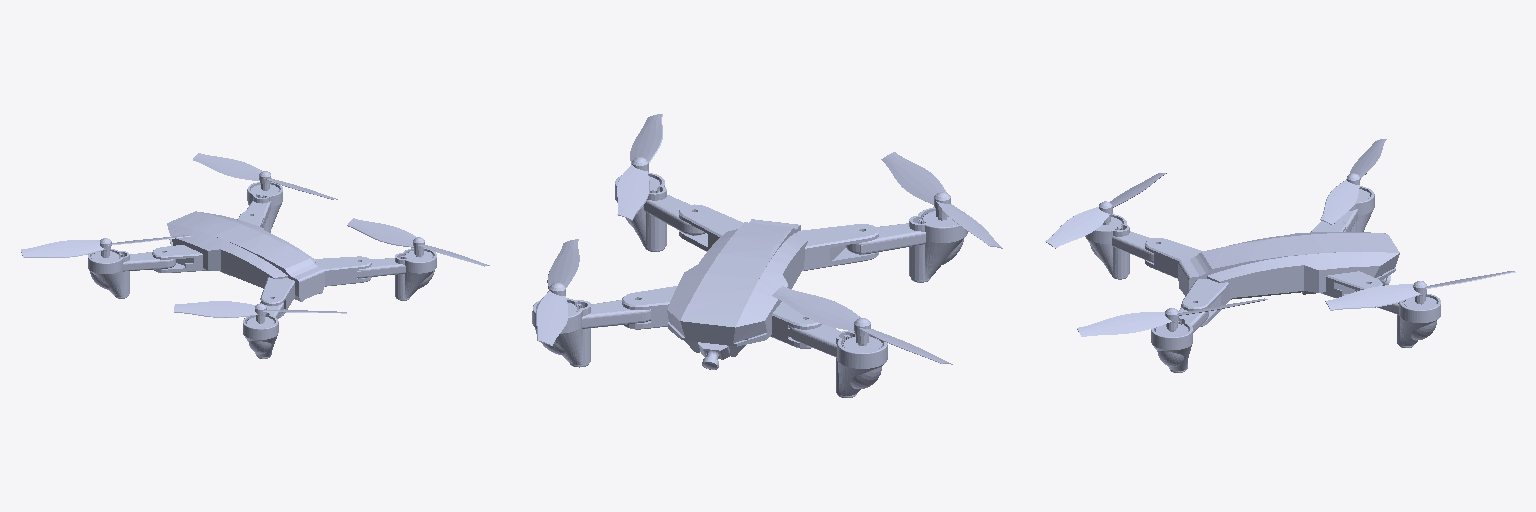
URDF robot description (Drone):
<?xml version="1.0" encoding="utf-8"?>
<!-- This URDF was automatically created by SolidWorks to URDF Exporter! Originally created by [author] ([email redacted]) 
     Commit Version: 1.6.0-1-g15f4949  Build Version: 1.6.7594.29634
     For more information, please see http://wiki.ros.org/sw_urdf_exporter -->
<robot
  name="Drone">
  <link
    name="base_link">
    <inertial>
      <origin
        xyz="0.109398871393486 0.131657507535457 0.112663263182331"
        rpy="0 0 0" />
      <mass
        value="0.126804991176584" />
      <inertia
        ixx="9.97652233502533E-05"
        ixy="1.66898922524471E-07"
        ixz="-1.17703083502394E-05"
        iyy="0.000143209177105433"
        iyz="6.35072021476405E-07"
        izz="5.80634418378302E-05" />
    </inertial>
    <visual>
      <origin
        xyz="0 0 0"
        rpy="0 0 0" />
      <geometry>
        <mesh
          filename="package://Drone/meshes/base_link.STL" />
      </geometry>
      <material
        name="">
        <color
          rgba="0.792156862745098 0.819607843137255 0.933333333333333 1" />
      </material>
    </visual>
    <collision>
      <origin
        xyz="0 0 0"
        rpy="0 0 0" />
      <geometry>
        <mesh
          filename="package://Drone/meshes/base_link.STL" />
      </geometry>
    </collision>
  </link>
  <link
    name="wing_link4">
    <inertial>
      <origin
        xyz="-1.1624E-06 0.023457 -1.5106E-06"
        rpy="0 0 0" />
      <mass
        value="0.0037436" />
      <inertia
        ixx="2.6167E-07"
        ixy="5.3919E-11"
        ixz="-4.2389E-07"
        iyy="1.7889E-06"
        iyz="2.712E-11"
        izz="1.6769E-06" />
    </inertial>
    <visual>
      <origin
        xyz="0 0 0"
        rpy="0 0 0" />
      <geometry>
        <mesh
          filename="package://Drone/meshes/wing_link4.STL" />
      </geometry>
      <material
        name="">
        <color
          rgba="0.79216 0.81961 0.93333 1" />
      </material>
    </visual>
    <collision>
      <origin
        xyz="0 0 0"
        rpy="0 0 0" />
      <geometry>
        <mesh
          filename="package://Drone/meshes/wing_link4.STL" />
      </geometry>
    </collision>
  </link>
  <joint
    name="joint_4"
    type="continuous">
    <origin
      xyz="0.223657184518553 -0.181780229237707 0.122872305354481"
      rpy="1.5707963267949 0 -0.899168245815085" />
    <parent
      link="base_link" />
    <child
      link="wing_link4" />
    <axis
      xyz="0 1 0" />
  </joint>
  <link
    name="wing_link3">
    <inertial>
      <origin
        xyz="-1.1624E-06 0.023457 -1.5106E-06"
        rpy="0 0 0" />
      <mass
        value="0.0037436" />
      <inertia
        ixx="2.6167E-07"
        ixy="5.3919E-11"
        ixz="-4.2389E-07"
        iyy="1.7889E-06"
        iyz="2.7119E-11"
        izz="1.6769E-06" />
    </inertial>
    <visual>
      <origin
        xyz="0 0 0"
        rpy="0 0 0" />
      <geometry>
        <mesh
          filename="package://Drone/meshes/wing_link3.STL" />
      </geometry>
      <material
        name="">
        <color
          rgba="0.79216 0.81961 0.93333 1" />
      </material>
    </visual>
    <collision>
      <origin
        xyz="0 0 0"
        rpy="0 0 0" />
      <geometry>
        <mesh
          filename="package://Drone/meshes/wing_link3.STL" />
      </geometry>
    </collision>
  </link>
  <joint
    name="joint_3"
    type="continuous">
    <origin
      xyz="0.177909320129391 -0.00477147433496601 0.122872305354481"
      rpy="1.5707963267949 0 2.25778719690263" />
    <parent
      link="base_link" />
    <child
      link="wing_link3" />
    <axis
      xyz="0 1 0" />
  </joint>
  <link
    name="wing_link2">
    <inertial>
      <origin
        xyz="-1.1601E-06 0.023457 -1.5102E-06"
        rpy="0 0 0" />
      <mass
        value="0.0037436" />
      <inertia
        ixx="2.6167E-07"
        ixy="5.3923E-11"
        ixz="-4.2389E-07"
        iyy="1.7889E-06"
        iyz="2.7099E-11"
        izz="1.6769E-06" />
    </inertial>
    <visual>
      <origin
        xyz="0 0 0"
        rpy="0 0 0" />
      <geometry>
        <mesh
          filename="package://Drone/meshes/wing_link2.STL" />
      </geometry>
      <material
        name="">
        <color
          rgba="0.79216 0.81961 0.93333 1" />
      </material>
    </visual>
    <collision>
      <origin
        xyz="0 0 0"
        rpy="0 0 0" />
      <geometry>
        <mesh
          filename="package://Drone/meshes/wing_link2.STL" />
      </geometry>
    </collision>
  </link>
  <joint
    name="joint_2"
    type="continuous">
    <origin
      xyz="-0.00331946555943933 -0.0524229667081412 0.122872305354481"
      rpy="1.5707963267949 0 0" />
    <parent
      link="base_link" />
    <child
      link="wing_link2" />
    <axis
      xyz="0 1 0" />
  </joint>
  <link
    name="wing_link1">
    <inertial>
      <origin
        xyz="-1.1606E-06 0.023457 -1.5103E-06"
        rpy="0 0 0" />
      <mass
        value="0.0037436" />
      <inertia
        ixx="2.6167E-07"
        ixy="5.3921E-11"
        ixz="-4.2389E-07"
        iyy="1.7889E-06"
        iyz="2.7105E-11"
        izz="1.6769E-06" />
    </inertial>
    <visual>
      <origin
        xyz="0 0 0"
        rpy="0 0 0" />
      <geometry>
        <mesh
          filename="package://Drone/meshes/wing_link1.STL" />
      </geometry>
      <material
        name="">
        <color
          rgba="0.79216 0.81961 0.93333 1" />
      </material>
    </visual>
    <collision>
      <origin
        xyz="0 0 0"
        rpy="0 0 0" />
      <geometry>
        <mesh
          filename="package://Drone/meshes/wing_link1.STL" />
      </geometry>
    </collision>
  </link>
  <joint
    name="joint_1"
    type="continuous">
    <origin
      xyz="0.0439137711021945 -0.229041164419629 0.122872305354481"
      rpy="1.5707963267949 0 -0.312112067297162" />
    <parent
      link="base_link" />
    <child
      link="wing_link1" />
    <axis
      xyz="0 1 0" />
  </joint>
</robot>

--- Render facts (derived) ---
Views: 3 orthographic renders of the robot side by side, from view 1: azimuth 30°, elevation 25°; view 2: azimuth 150°, elevation 25°; view 3: azimuth 270°, elevation 25°.
Robot: Drone — 5 links, 4 joints (4 continuous); root link base_link; default pose: all joints at 0.
Links seen in each view (by area): view 1: base_link, wing_link2, wing_link1, wing_link4, wing_link3; view 2: base_link, wing_link2, wing_link1, wing_link4, wing_link3; view 3: base_link, wing_link3, wing_link4, wing_link1, wing_link2.
Link boxes in pixels (x1=…): base_link: x1=88, y1=182, x2=436, y2=358; wing_link2: x1=21, y1=235, x2=190, y2=261; wing_link1: x1=174, y1=301, x2=346, y2=327; wing_link4: x1=347, y1=218, x2=489, y2=266; wing_link3: x1=193, y1=153, x2=337, y2=199; base_link: x1=532, y1=172, x2=967, y2=397; wing_link2: x1=772, y1=286, x2=952, y2=364; wing_link1: x1=881, y1=152, x2=1002, y2=248; wing_link4: x1=617, y1=114, x2=662, y2=220; wing_link3: x1=536, y1=239, x2=579, y2=345; base_link: x1=1085, y1=186, x2=1440, y2=372; wing_link3: x1=1325, y1=271, x2=1515, y2=310; wing_link4: x1=1077, y1=298, x2=1267, y2=336; wing_link1: x1=1045, y1=173, x2=1166, y2=248; wing_link2: x1=1320, y1=139, x2=1386, y2=224.
Bounding box of the posed robot: 0.33 × 0.3358 × 0.0545 m (x, y, z).
Meshes: 5 distinct files referenced, 5 mesh visuals loaded (5 binary STL).